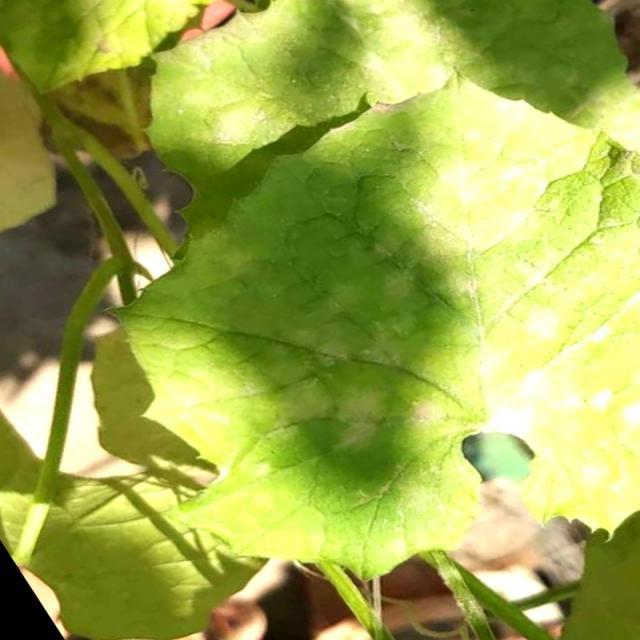Leaf_Mold: (112, 172, 640, 560), (156, 0, 640, 217)
